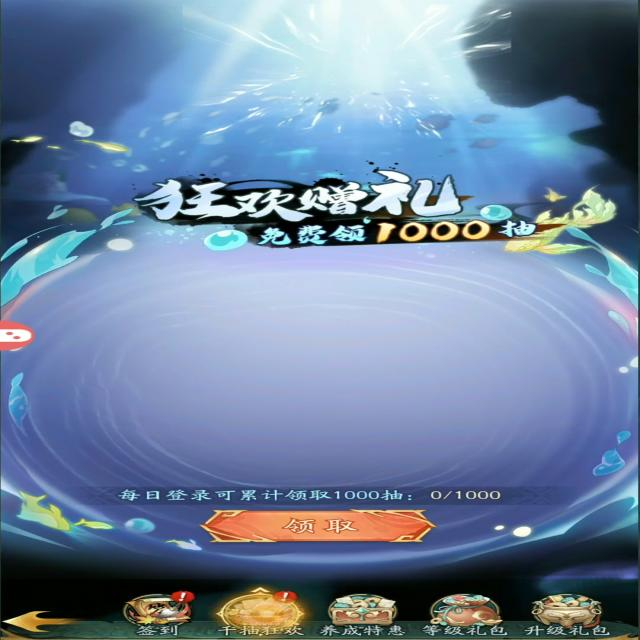hint-reddot: (267, 583, 304, 604), (172, 586, 201, 604)
operation-DevelopSpecialOffers: (316, 591, 405, 639)
operation-GradeGift: (414, 590, 507, 640)
operation-UpgradeGift: (519, 589, 616, 640)
operation-back: (8, 597, 93, 635)
operation-confirm: (192, 508, 450, 546)
operation-qianchoukuanghuan: (217, 586, 312, 637)
operation-signin: (108, 592, 203, 640)
